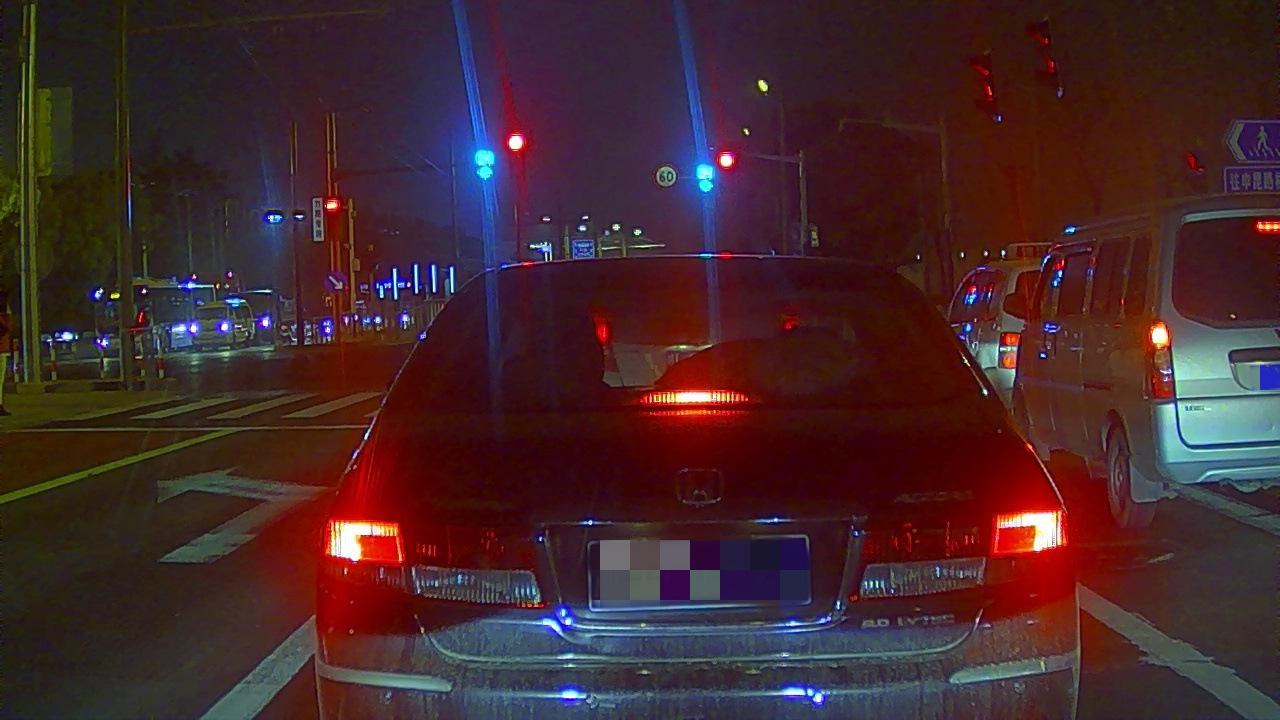traffic_light: (476, 150, 494, 180), (696, 164, 713, 190), (511, 134, 523, 152), (722, 153, 733, 167)
